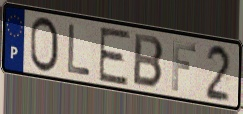2: (204, 43, 232, 106)
B: (131, 31, 166, 91)
E: (97, 26, 132, 88)
F: (170, 39, 198, 93)
L: (66, 22, 92, 78)
O: (28, 15, 60, 75)
